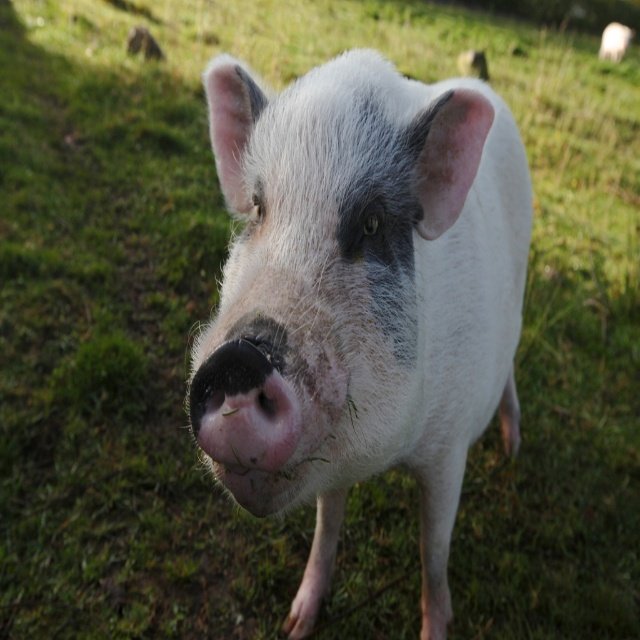Pig: (183, 45, 533, 639), (598, 23, 636, 62)
